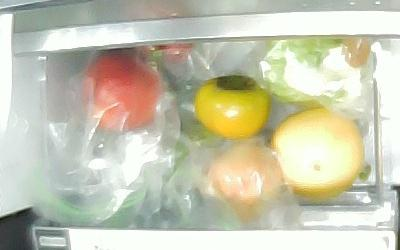apple_vinyl: (82, 55, 159, 131)
grapefruit: (274, 108, 362, 199)
lettuce_vinyl: (262, 36, 370, 106)
peach_vinyl: (209, 143, 281, 221)
persimmon: (194, 76, 270, 138)
